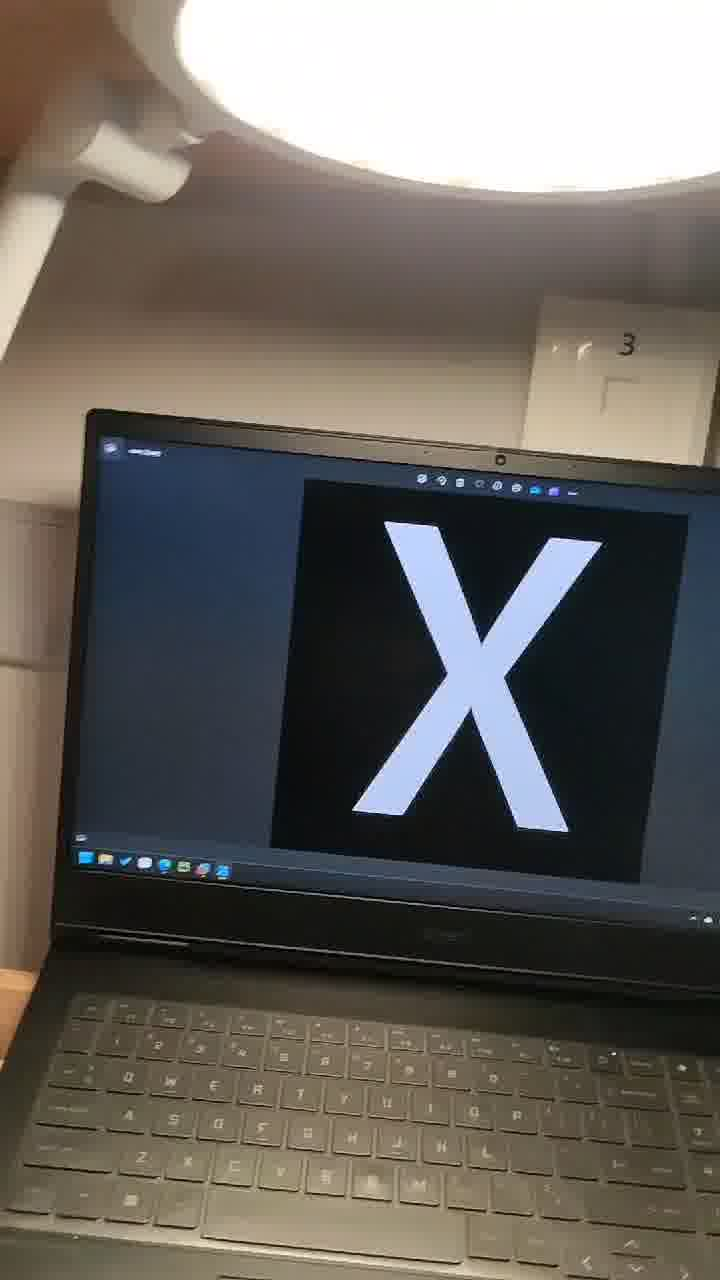X: (334, 533, 587, 867)
